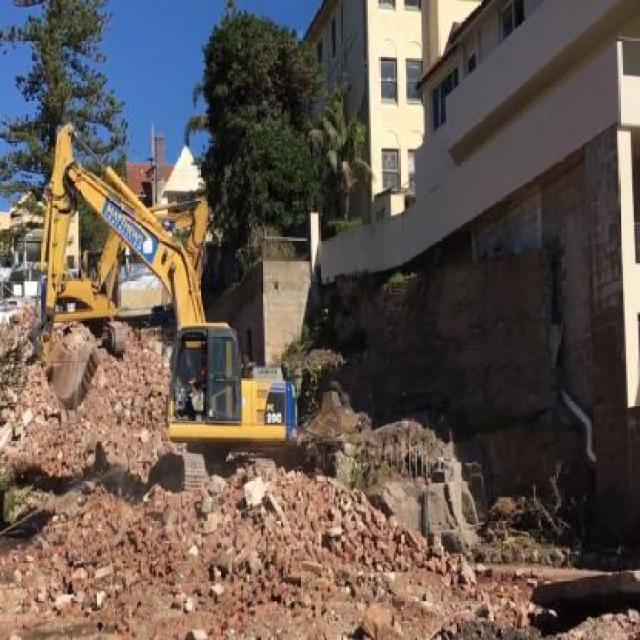excavator: (28, 123, 302, 488), (52, 229, 123, 354)
